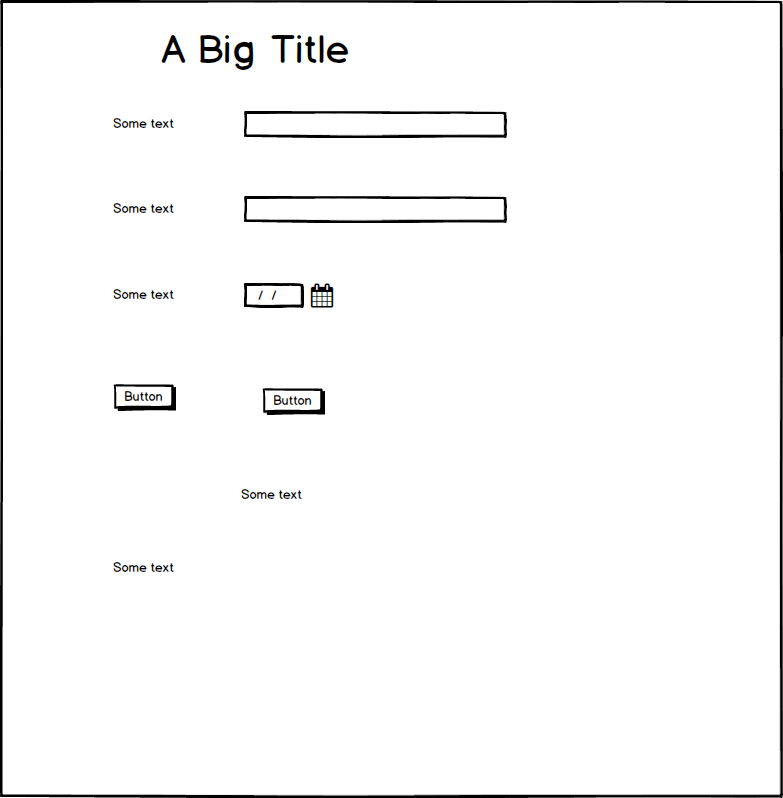button: (255, 380, 332, 421), (105, 379, 187, 416)
date_picker: (237, 274, 347, 317)
h1: (154, 27, 361, 74)
input: (237, 188, 515, 230), (238, 105, 517, 145)
label: (103, 551, 184, 584), (233, 482, 328, 510), (105, 191, 186, 222), (106, 279, 187, 308), (104, 115, 182, 133)
